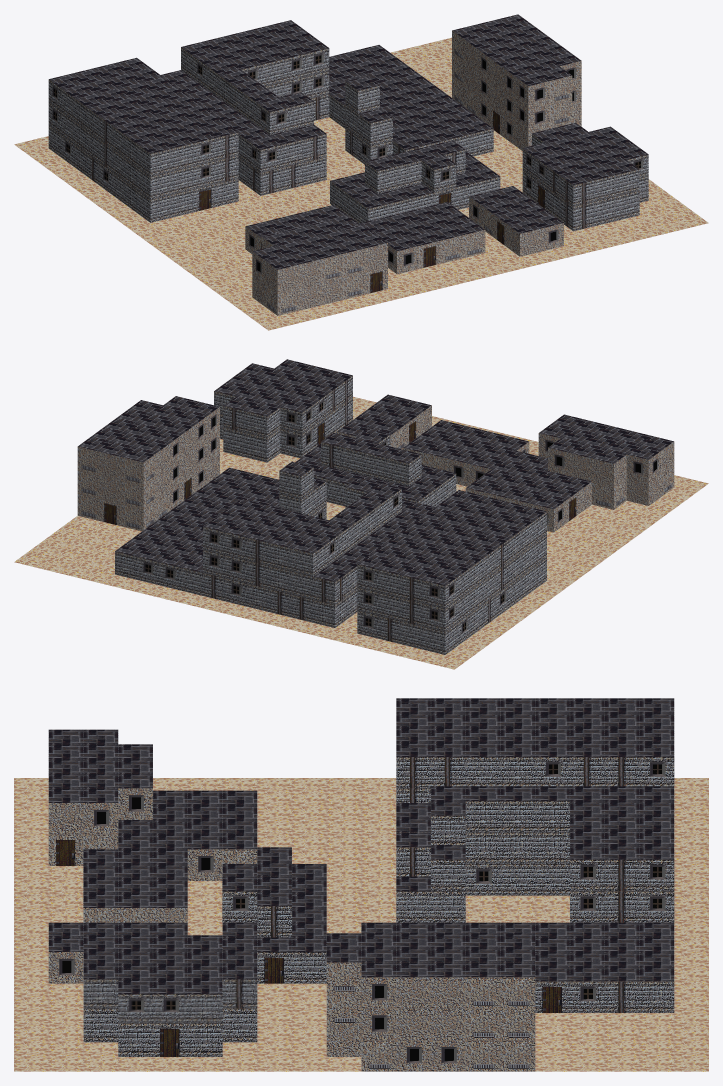
Rendered from Hammerfell.fbx.
The picture shows the model from 3 angles, top to bottom: view 1: azimuth 30°, elevation 25°; view 2: azimuth 150°, elevation 25°; view 3: azimuth 270°, elevation 25°; orthographic projection. The views are drawn at different scales.
Parts seen in each view (by area): view 1: Chunk1; view 2: Chunk1; view 3: Chunk1.
Boxes of the visible parts, left/top/right/bottom form: Chunk1: left=14, top=14, right=708, bottom=330; Chunk1: left=14, top=359, right=708, bottom=669; Chunk1: left=14, top=698, right=708, bottom=1071.
Bounding box in the file's own units: 4000 × 600 × 4000.
1 material, 1 textured.
